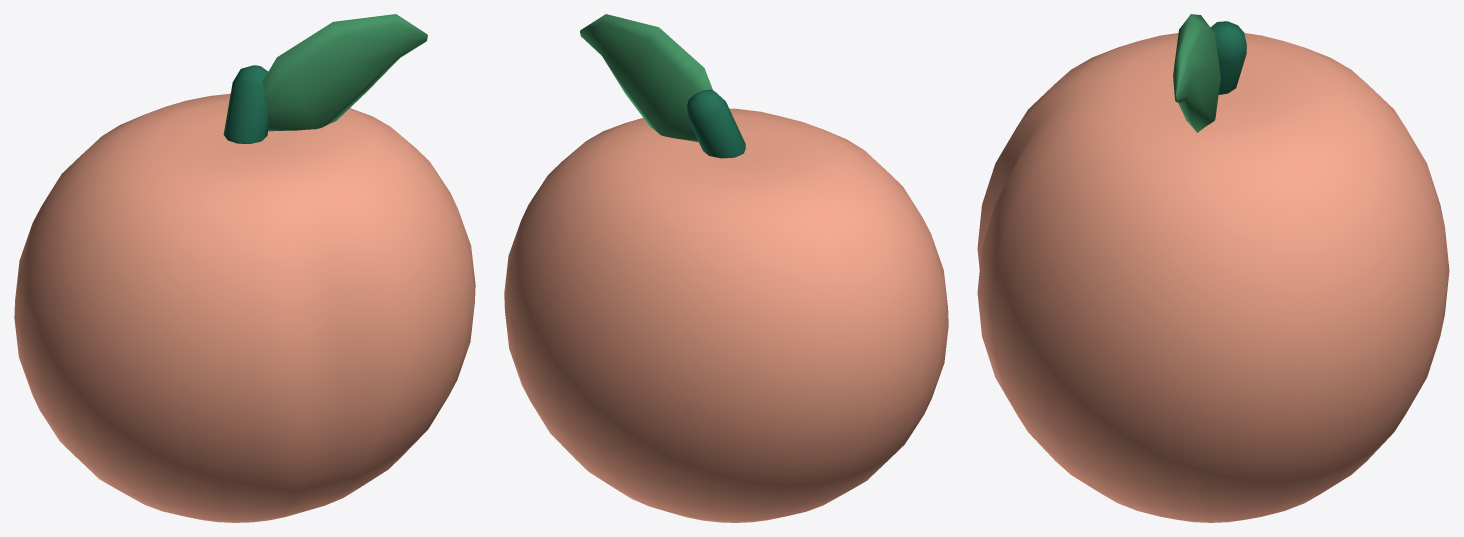
The model's file is peach.glb.
3 views of the same model, side by side, from view 1: azimuth 30°, elevation 25°; view 2: azimuth 150°, elevation 25°; view 3: azimuth 270°, elevation 25° (orthographic). The views are drawn at different scales.
Visible parts, largest first — view 1: peach; view 2: peach; view 3: peach.
Boxes of the visible parts, box(x1,y1,x2,y2) form: peach: box(14, 14, 475, 522); peach: box(504, 14, 948, 522); peach: box(977, 14, 1449, 522).
Bounding box in the file's own units: 0.504 × 0.5484 × 0.4457.
